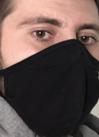with_mask: (1, 1, 99, 137)
